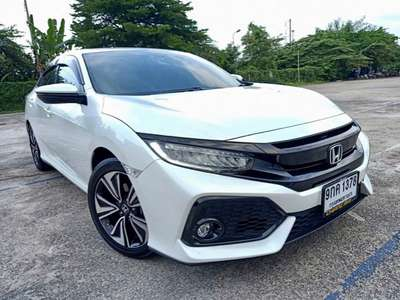sedan: (22, 46, 375, 265)
